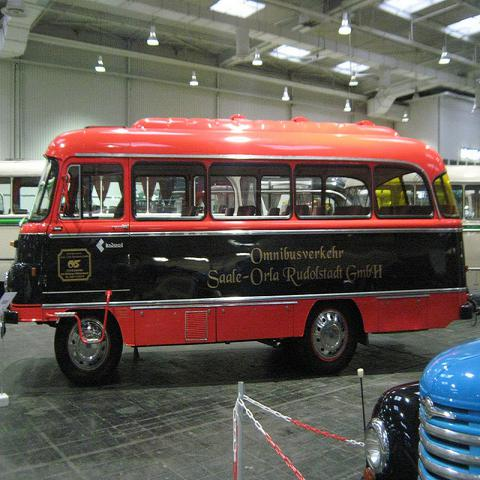bus: (8, 116, 474, 383)
truck: (365, 337, 479, 475)
